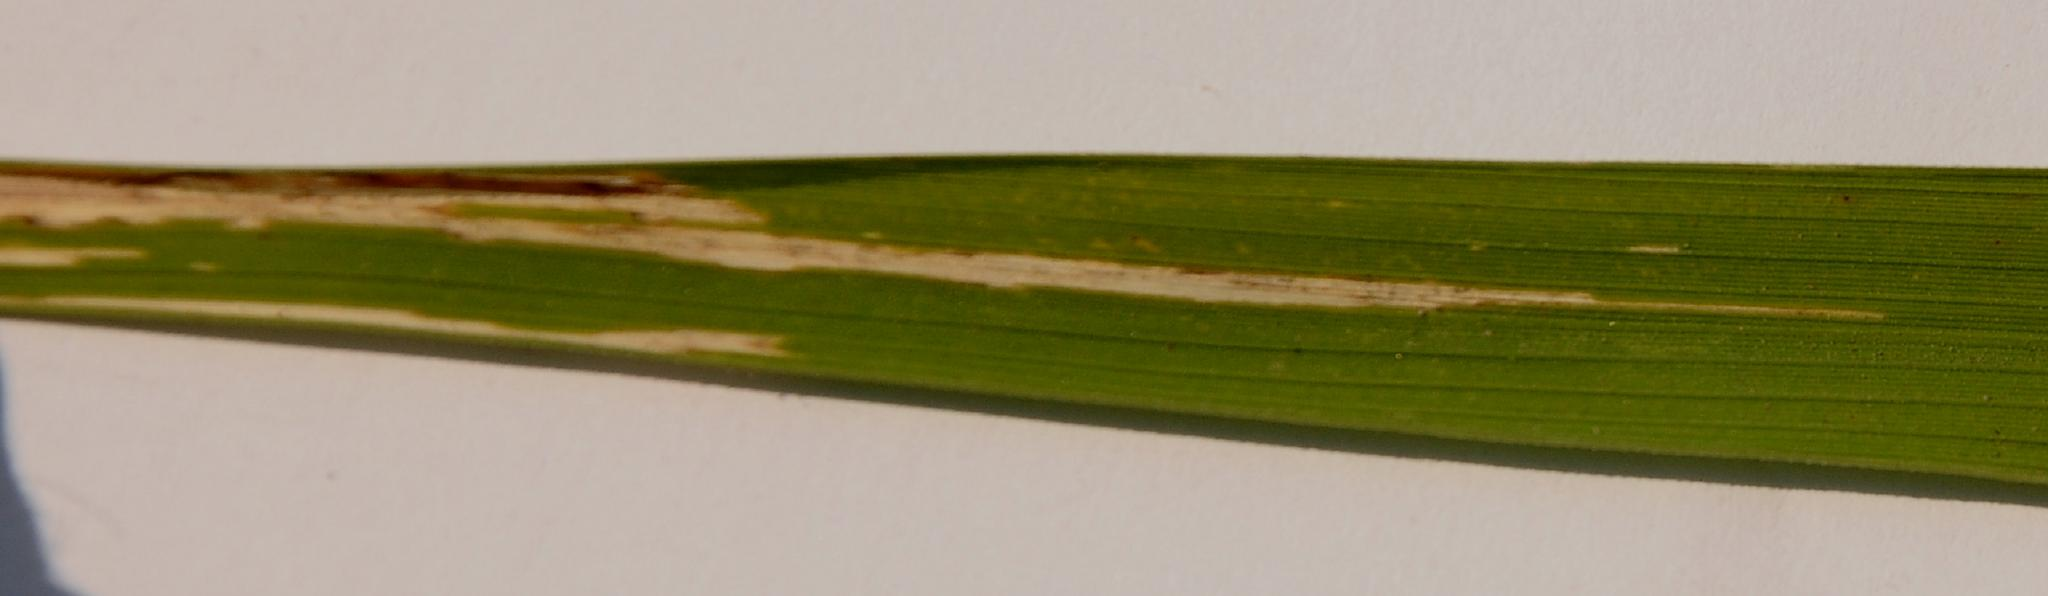2 BacterialBlight: (3, 128, 1920, 393)
